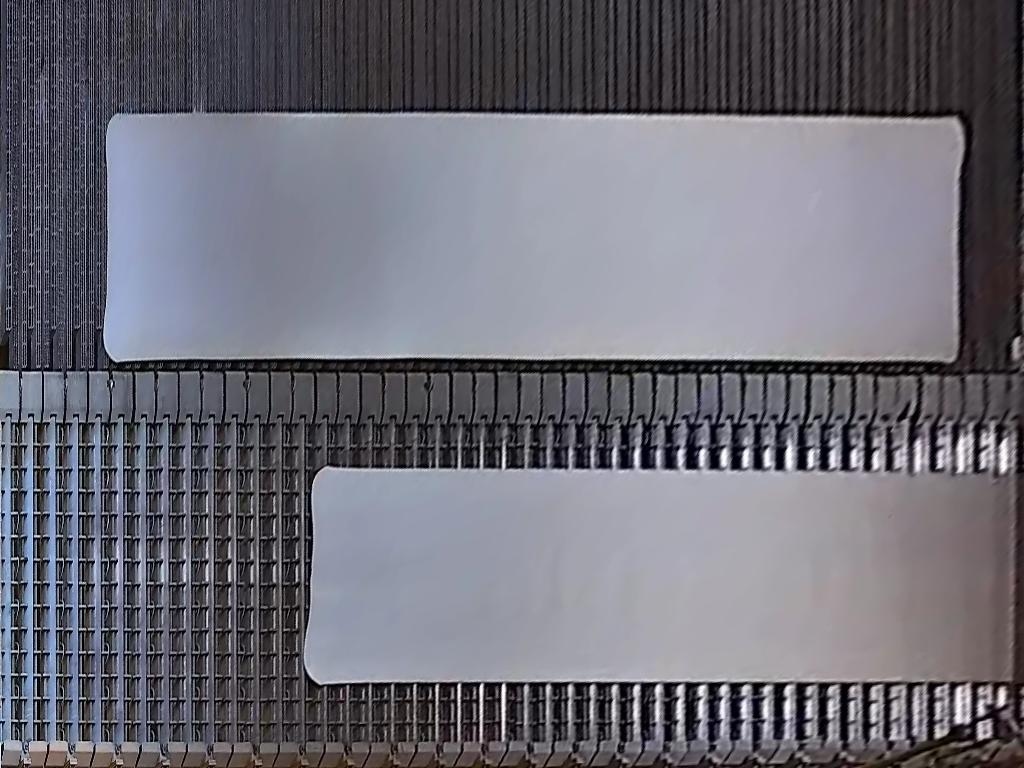steel: (101, 112, 966, 364), (301, 465, 1016, 688)
